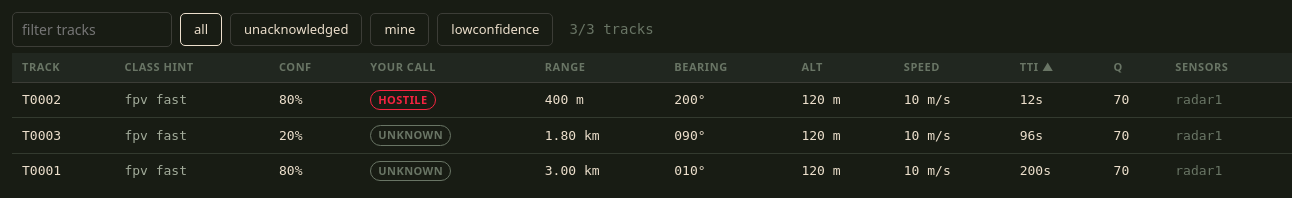
Test: TrackTable › filters to unacknowledged tracks
The width and height of the screenshot is (1292, 198).
Click the button "unacknowledged". click: (296,30)
box: [230,13,362,46]
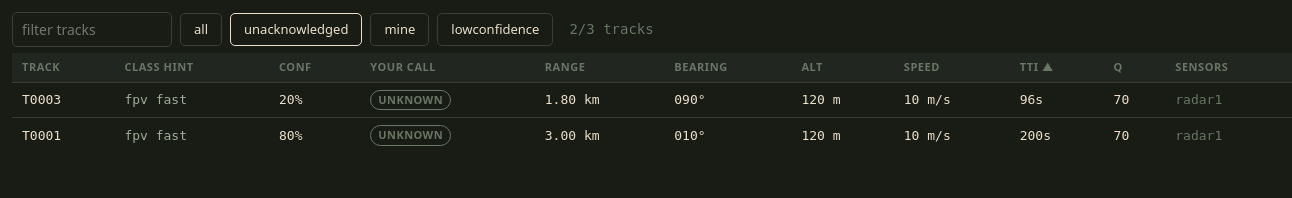
Now the text "2/3 tracks" is shown, box [569,19,654,40]
